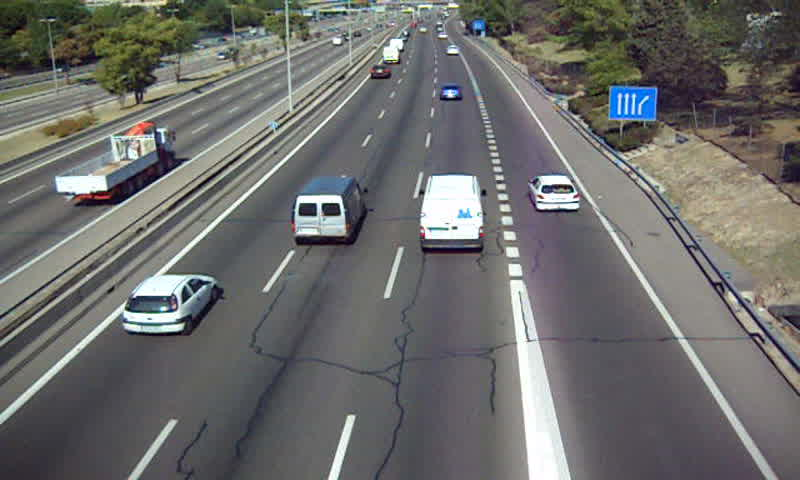car: (120, 274, 220, 336), (529, 175, 582, 210), (439, 84, 463, 101), (369, 65, 390, 80)
van: (292, 176, 368, 242), (420, 175, 483, 250), (382, 46, 400, 65)
